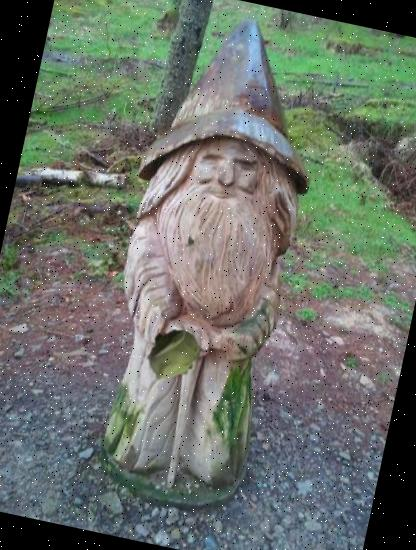Kohlrabi: (137, 320, 206, 389)
